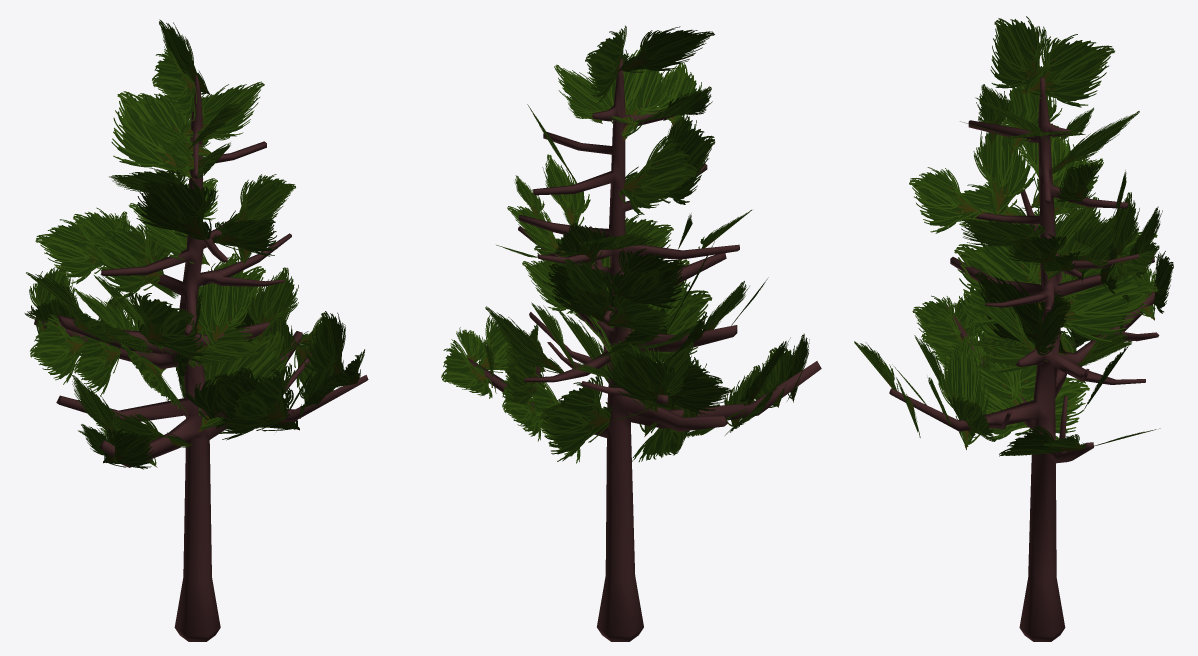
Rendered from tree2.glb.
The picture shows the model from 3 angles, left to right: view 1: azimuth 30°, elevation 25°; view 2: azimuth 150°, elevation 25°; view 3: azimuth 270°, elevation 25°; orthographic projection. The views are drawn at different scales.
Visible parts, largest first — view 1: leaves, pine_tree; view 2: leaves, pine_tree; view 3: leaves, pine_tree.
Part boxes in pixels (bbox=[...]): leaves: bbox=[24, 19, 364, 469]; pine_tree: bbox=[34, 75, 368, 641]; leaves: bbox=[441, 25, 809, 463]; pine_tree: bbox=[468, 58, 821, 641]; leaves: bbox=[854, 16, 1173, 456]; pine_tree: bbox=[889, 77, 1159, 641].
Size of the model in its own units: 2.4 by 4.68 by 2.34.
1 material, 1 textured.
